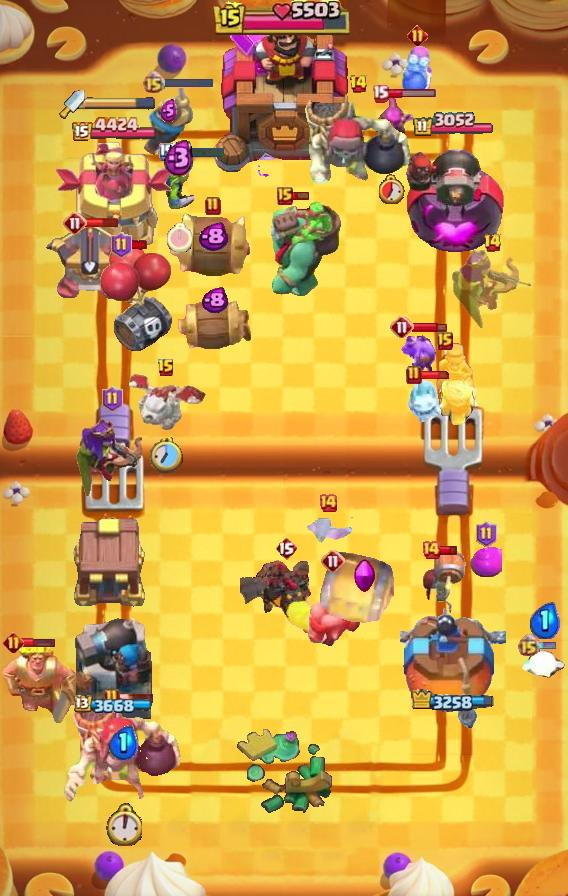archer-evolution: (240, 553, 332, 633)
bar: (54, 142, 173, 256)
barbarian: (303, 517, 353, 545)
barbarian-hut: (449, 245, 535, 331), (72, 415, 152, 503)
bat: (405, 376, 449, 426), (520, 648, 568, 678)
bomb: (68, 515, 148, 609)
clock: (213, 0, 355, 38)
dirt: (315, 546, 399, 630)
electro-giant: (63, 695, 183, 805), (302, 89, 414, 199)
electro-spirit: (163, 138, 195, 177), (529, 601, 560, 638), (108, 725, 138, 759), (198, 222, 228, 252), (201, 286, 228, 313), (160, 98, 177, 122)
elite-barbarian: (303, 573, 363, 647), (433, 342, 479, 426)
elixir: (106, 803, 143, 846), (150, 437, 183, 473), (379, 174, 405, 204), (167, 224, 192, 252)
emote: (162, 76, 214, 89), (174, 146, 227, 158), (386, 89, 438, 100), (118, 692, 155, 704), (412, 321, 447, 333), (20, 637, 55, 648), (85, 217, 119, 228), (420, 370, 452, 380), (290, 190, 310, 202), (130, 239, 150, 251), (438, 544, 457, 555), (537, 641, 557, 651)
evolution-symbol: (369, 94, 415, 154)
firecracker: (143, 88, 194, 158)
goblin-hut: (0, 639, 82, 725)
ice-golem: (400, 46, 434, 96)
king-tower: (211, 7, 357, 181)
king-tower-bar: (85, 97, 155, 111)
knight: (420, 549, 468, 615)
lava-hound: (255, 199, 343, 297)
lava-pup: (43, 219, 135, 301)
miner: (470, 547, 502, 577)
mini-pekka: (122, 370, 210, 430)
queen-tower: (400, 603, 506, 731)
royal-delivery: (399, 332, 437, 374)
royal-recruit-evolution: (98, 241, 176, 355)
selected: (70, 116, 157, 144), (413, 112, 496, 138), (412, 689, 497, 714), (74, 695, 154, 715)
skeleton-king-skill: (354, 559, 376, 593)
text: (63, 211, 87, 235), (390, 315, 414, 339), (321, 549, 345, 573), (143, 70, 166, 94), (516, 634, 539, 658), (112, 232, 133, 258), (101, 386, 122, 412), (476, 521, 497, 547), (275, 536, 297, 560), (4, 631, 25, 653), (407, 26, 428, 47), (318, 493, 338, 513), (421, 540, 441, 560), (349, 74, 368, 94), (482, 233, 501, 253), (157, 358, 175, 378), (371, 85, 389, 104), (205, 196, 221, 216), (406, 365, 422, 385), (104, 688, 120, 708), (159, 143, 175, 161), (277, 187, 293, 205), (437, 332, 453, 350)
the-log: (168, 212, 258, 280), (174, 296, 254, 356)
tower-bar: (401, 138, 505, 256), (71, 611, 157, 731)
zap: (158, 155, 200, 213)
